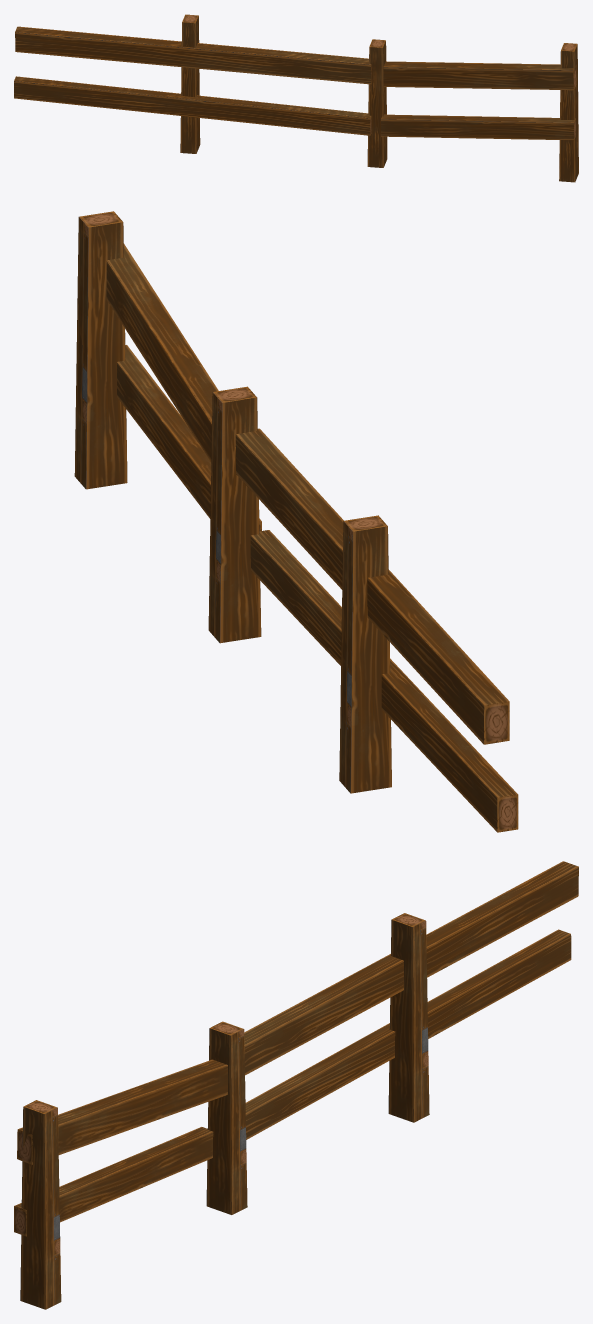
The picture shows the model from 3 angles, top to bottom: view 1: azimuth 30°, elevation 25°; view 2: azimuth 150°, elevation 25°; view 3: azimuth 270°, elevation 25°; orthographic projection. The views are drawn at different scales.
Visible parts, largest first — view 1: Cube.2147; view 2: Cube.2147; view 3: Cube.2147.
Boxes of the visible parts, <box> form: Cube.2147: <box>14,14,578,182</box>; Cube.2147: <box>74,211,518,832</box>; Cube.2147: <box>14,861,578,1309</box>.
Bounding box in the file's own units: 417 × 132 × 347.
1 material, 1 textured.
